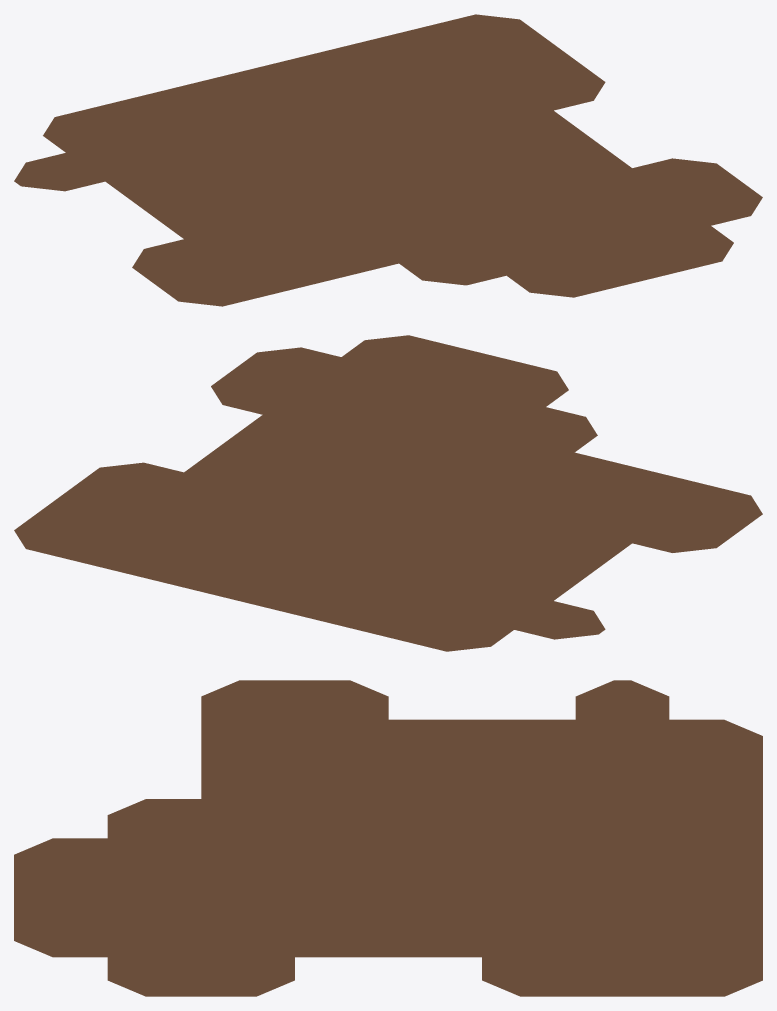
The model's file is CoffeeSpill.fbx.
The picture shows the model from 3 angles, top to bottom: view 1: azimuth 30°, elevation 25°; view 2: azimuth 150°, elevation 25°; view 3: azimuth 270°, elevation 25°; orthographic projection. The views are drawn at different scales.
Parts seen in each view (by area): view 1: Plane; view 2: Plane; view 3: Plane.
Part boxes in pixels (x1,y1,x2,y2): Plane: [14, 14, 762, 306]; Plane: [14, 335, 762, 651]; Plane: [14, 680, 762, 996].
Size of the model in its own units: 200 by 3.26e-05 by 200.
